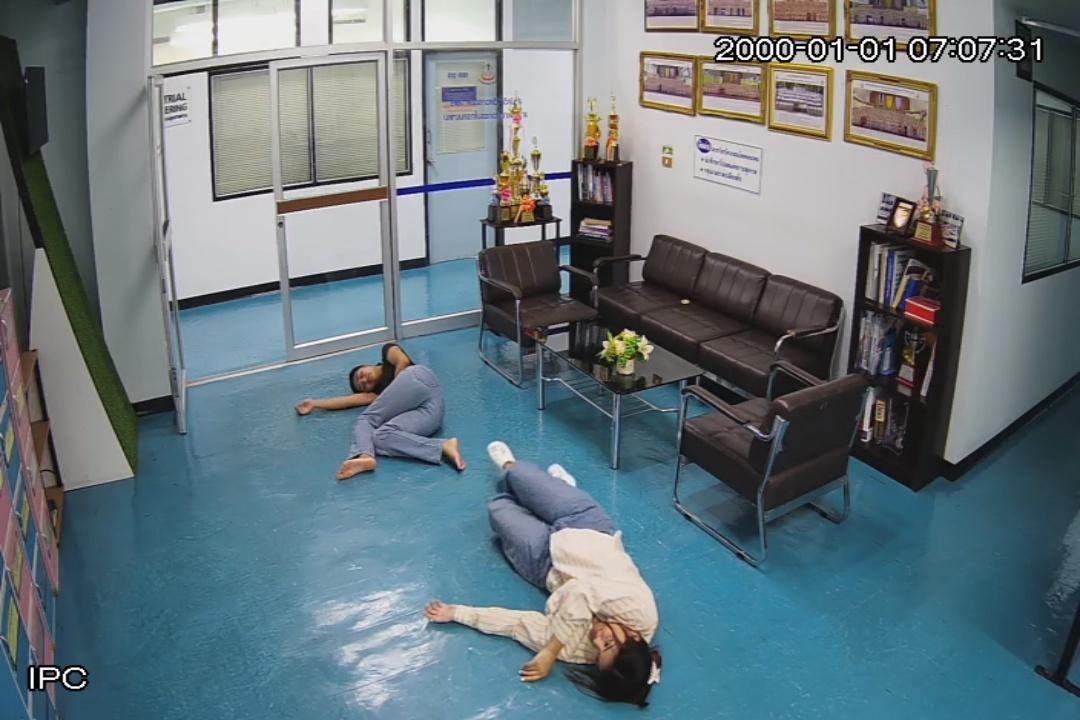fall: (427, 443, 657, 704), (296, 343, 464, 481)
